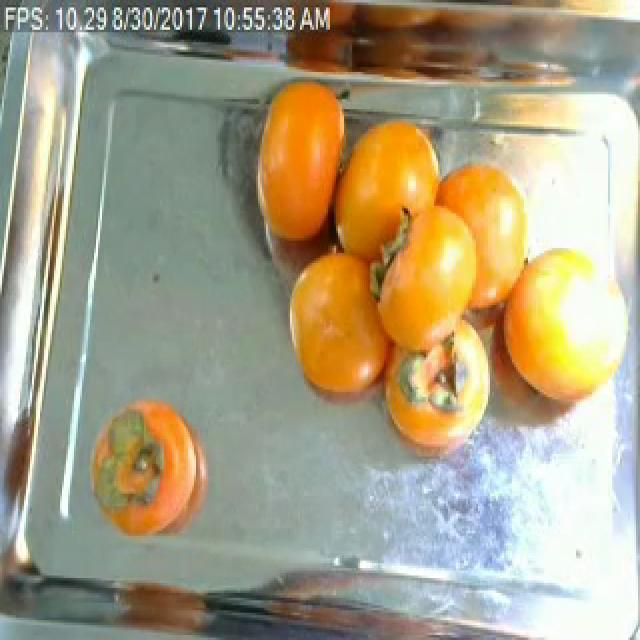Fruit: (76, 382, 224, 553), (238, 64, 344, 260), (424, 151, 542, 300), (102, 566, 220, 638)
